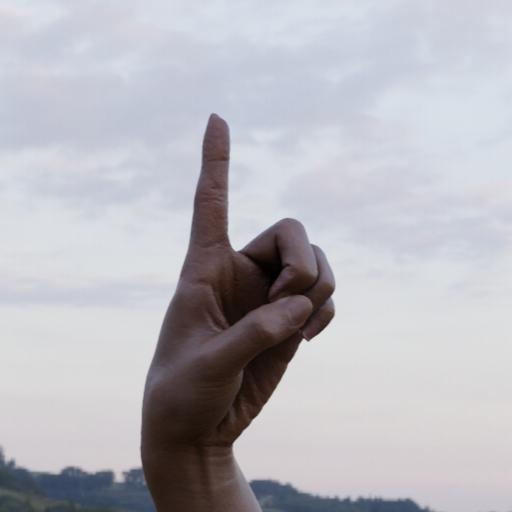D: (142, 102, 352, 464)
